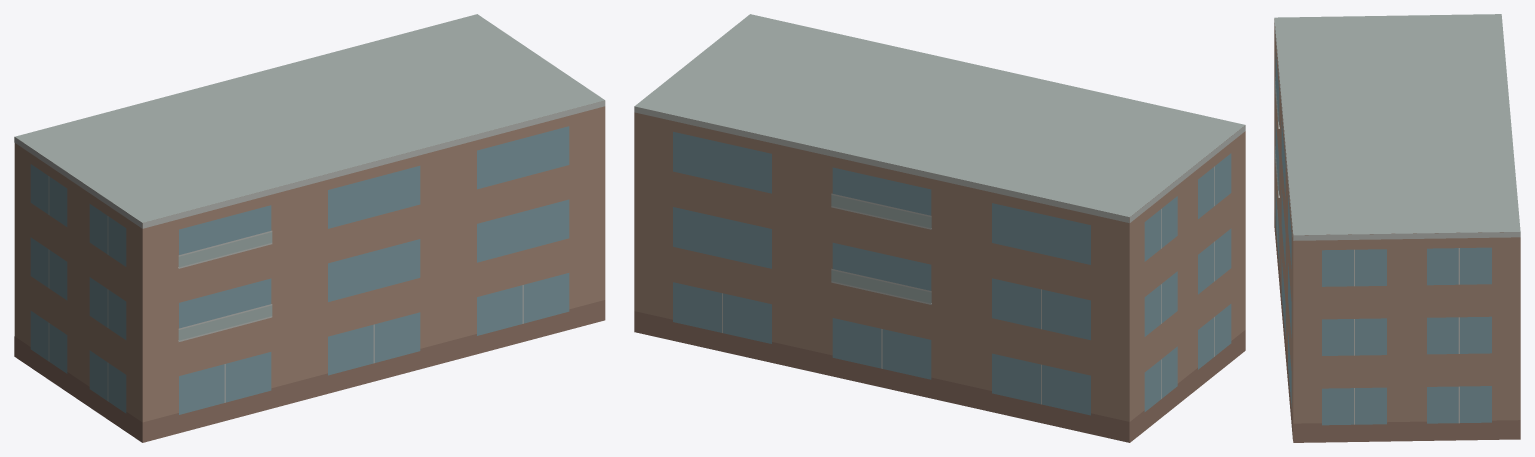
Rendered from survey-upis-32993398.glb.
3 renders of one model, left to right at view 1: azimuth 30°, elevation 25°; view 2: azimuth 150°, elevation 25°; view 3: azimuth 270°, elevation 25°, orthographic. The views are drawn at different scales.
Visible parts, largest first — view 1: survey-upis-32993398.tmp; view 2: survey-upis-32993398.tmp; view 3: survey-upis-32993398.tmp.
Boxes of the visible parts, x1=… form: survey-upis-32993398.tmp: x1=14, y1=14, x2=605, y2=442; survey-upis-32993398.tmp: x1=634, y1=14, x2=1245, y2=442; survey-upis-32993398.tmp: x1=1274, y1=14, x2=1520, y2=442.
Size of the model in its own units: 20.93 by 9.15 by 9.85.
